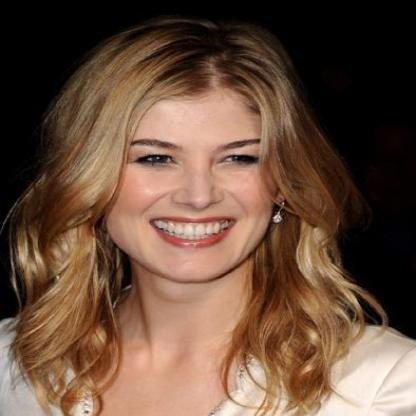long-hair: (5, 283, 357, 340)
